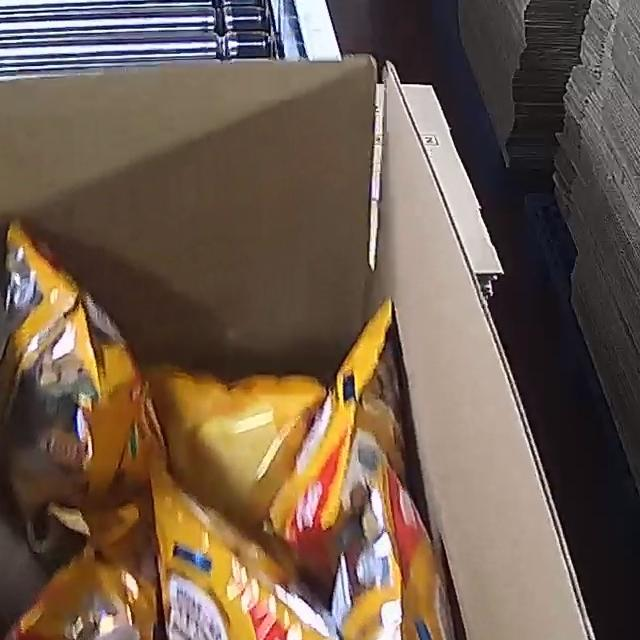cheese: (0, 214, 485, 640)
